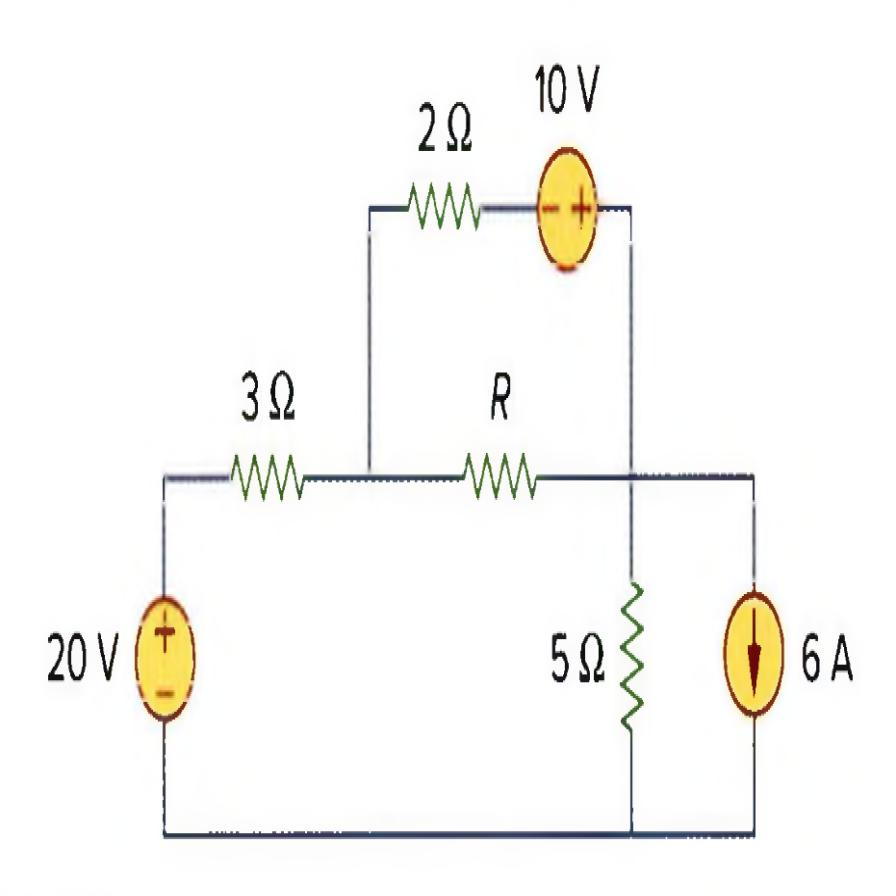I3: (721, 572, 786, 742)
R1: (398, 167, 494, 277), (452, 423, 543, 526), (218, 432, 312, 527)
R2: (610, 562, 655, 744)
V1: (132, 596, 198, 724)
